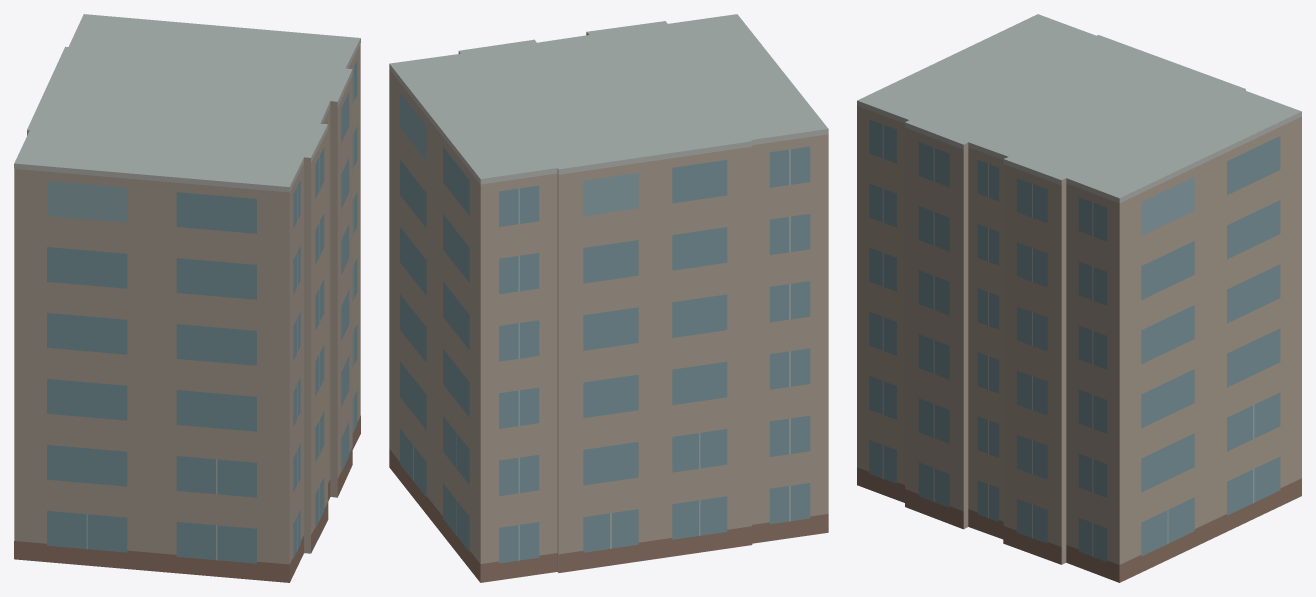
File: survey-upis-32846985.glb
The picture shows the model from 3 angles, left to right: view 1: azimuth 30°, elevation 25°; view 2: azimuth 150°, elevation 25°; view 3: azimuth 270°, elevation 25°; orthographic projection. The views are drawn at different scales.
Visible parts, largest first — view 1: survey-upis-32846985.tmp; view 2: survey-upis-32846985.tmp; view 3: survey-upis-32846985.tmp.
Boxes of the visible parts, left/top/right/bottom form: survey-upis-32846985.tmp: left=14, top=14, right=360, bottom=582; survey-upis-32846985.tmp: left=389, top=14, right=828, bottom=582; survey-upis-32846985.tmp: left=857, top=14, right=1301, bottom=582.
Size of the model in its own units: 18.81 by 18.3 by 19.19.
